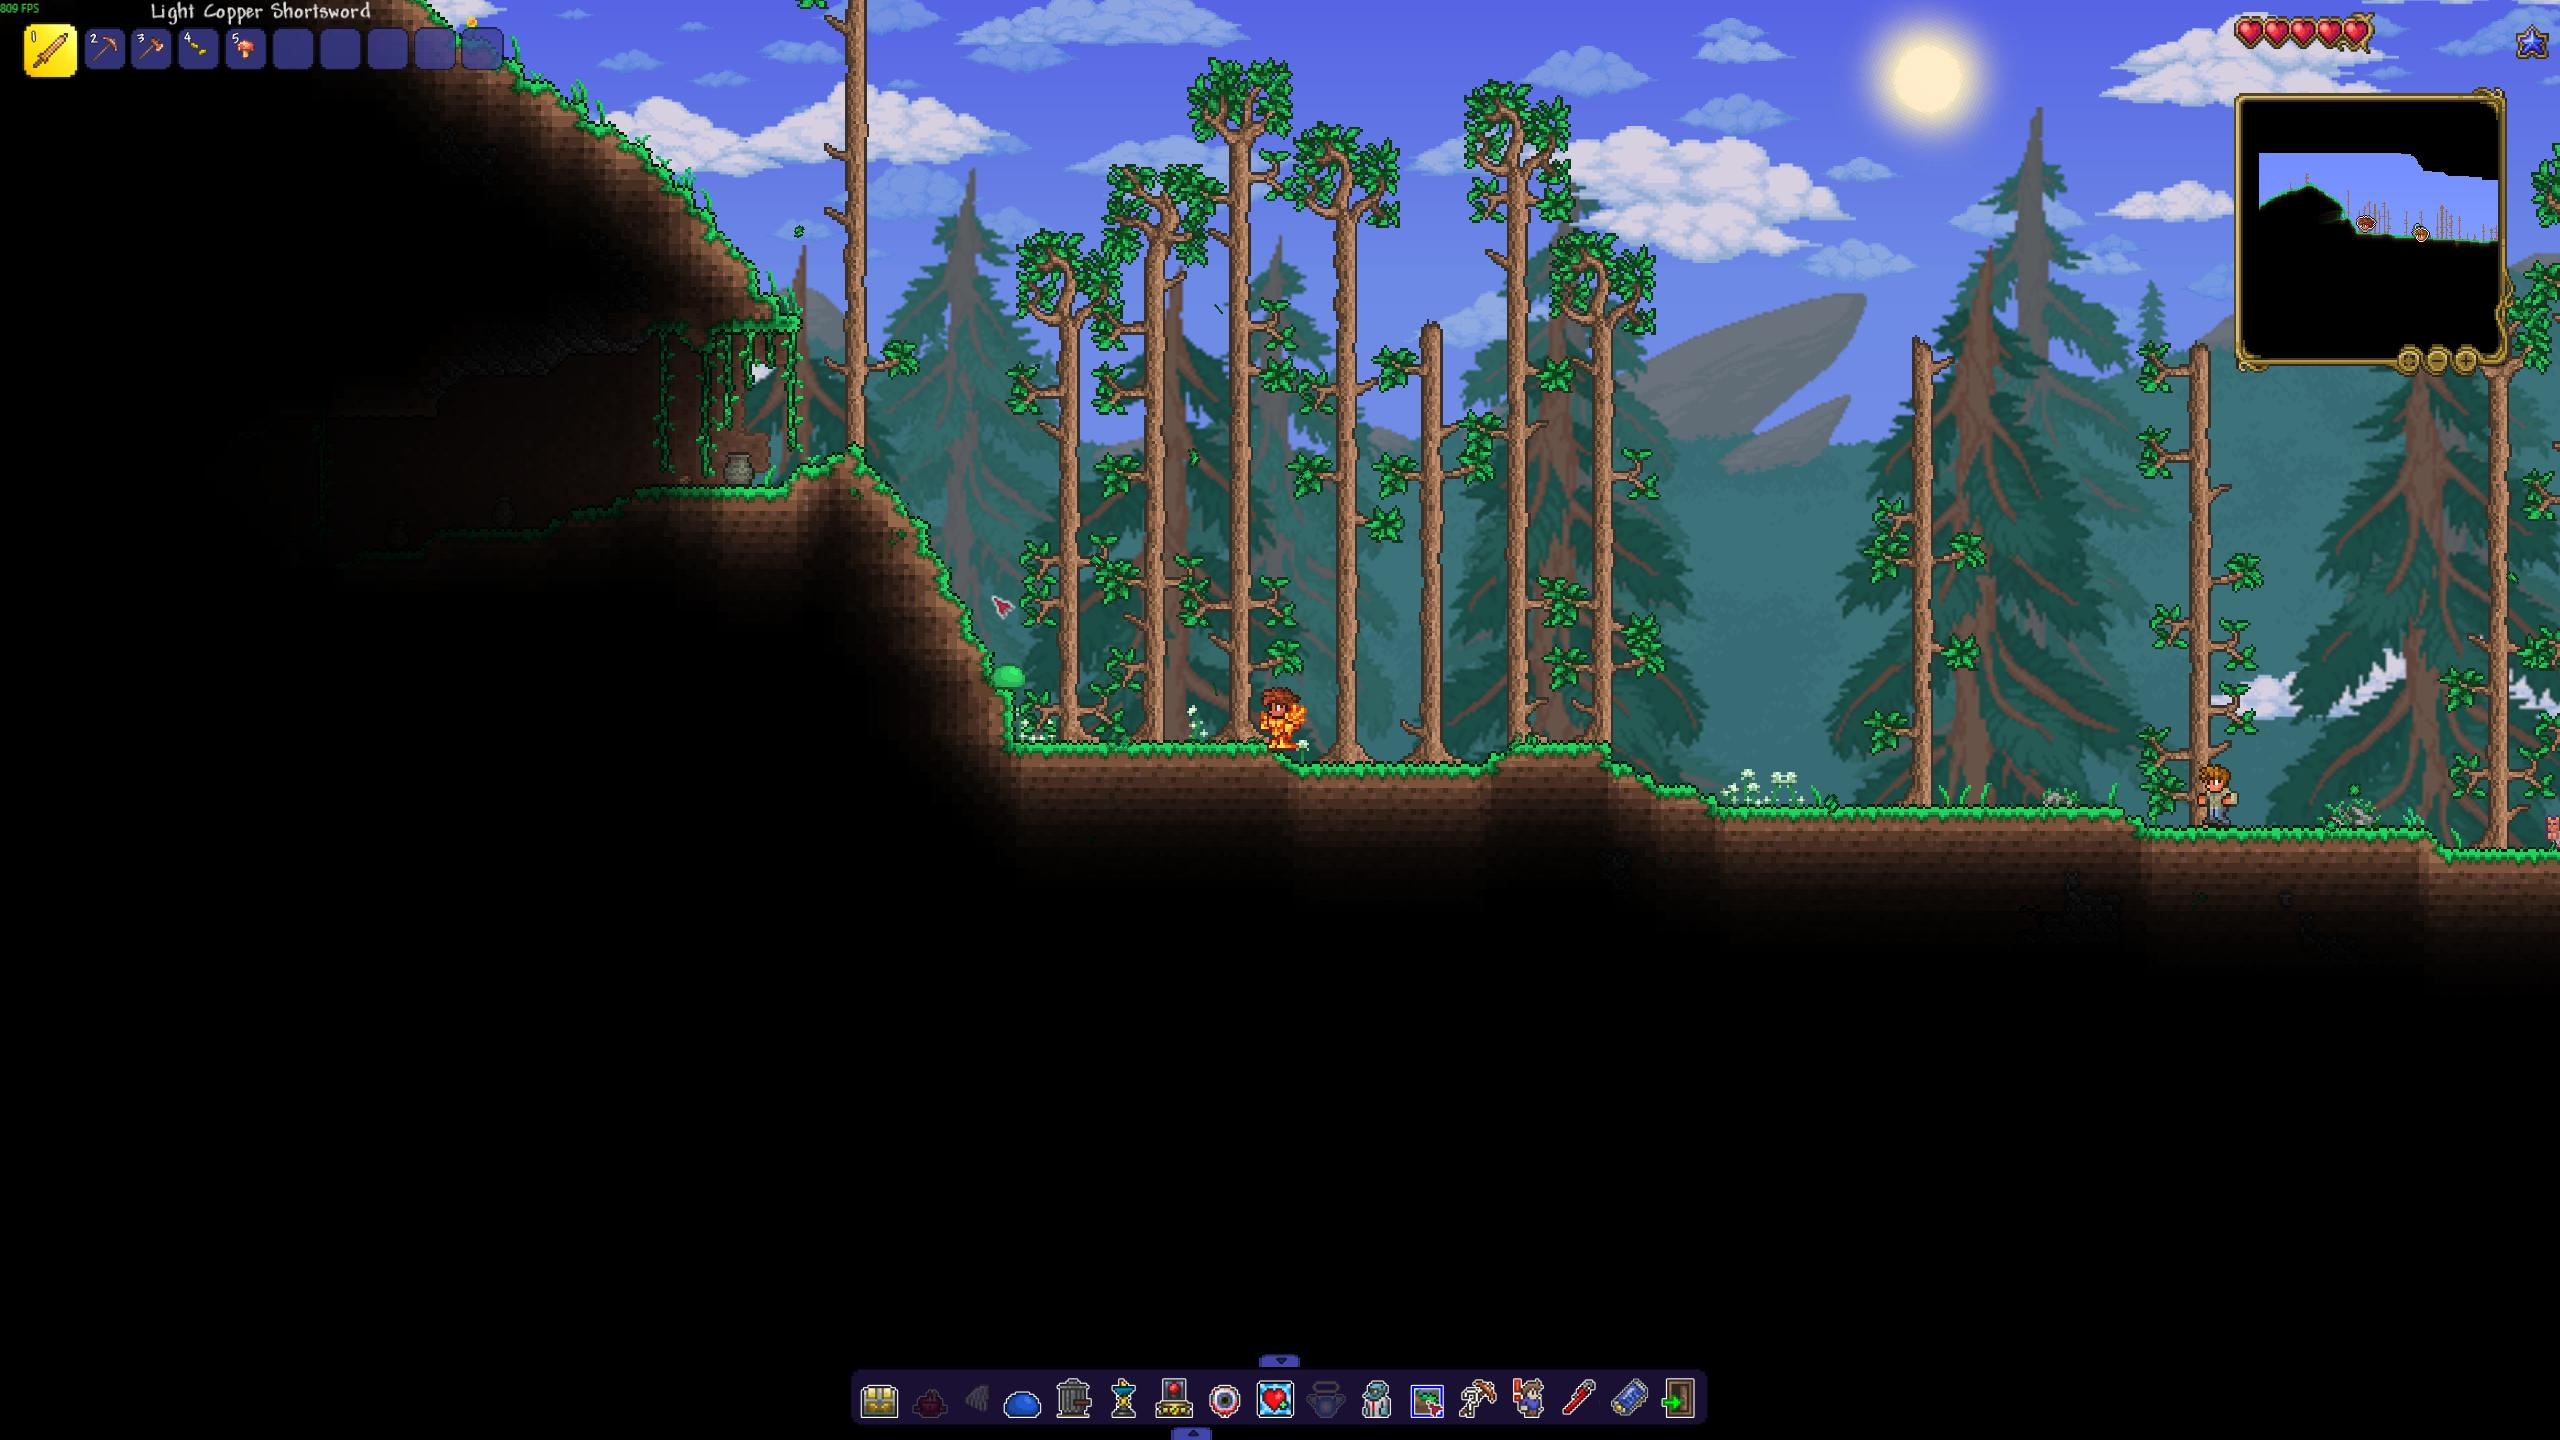Green Slime: (985, 663, 1030, 691)
